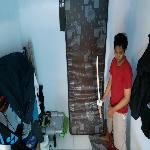Pedang: (87, 49, 109, 124)
